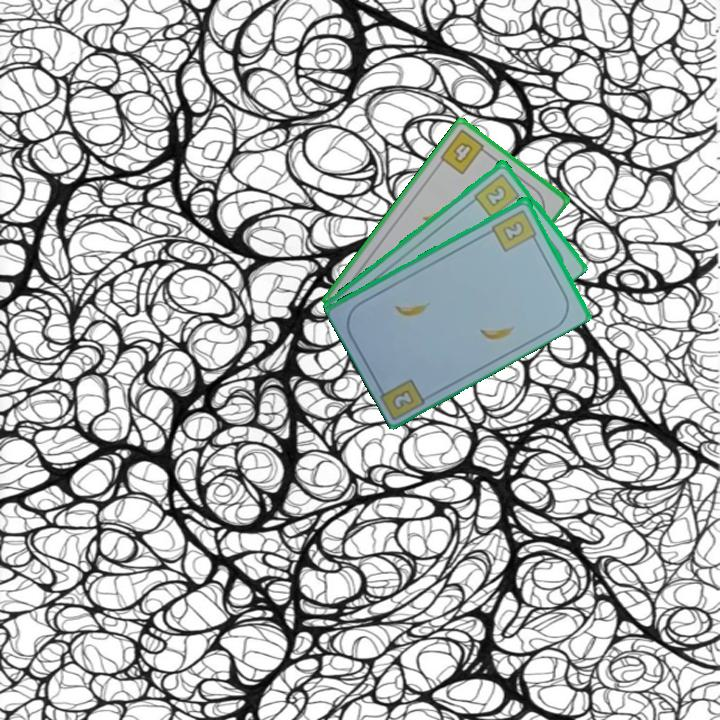2b: (471, 169, 524, 220), (488, 205, 540, 254), (388, 386, 417, 412)
4b: (436, 126, 492, 177)
